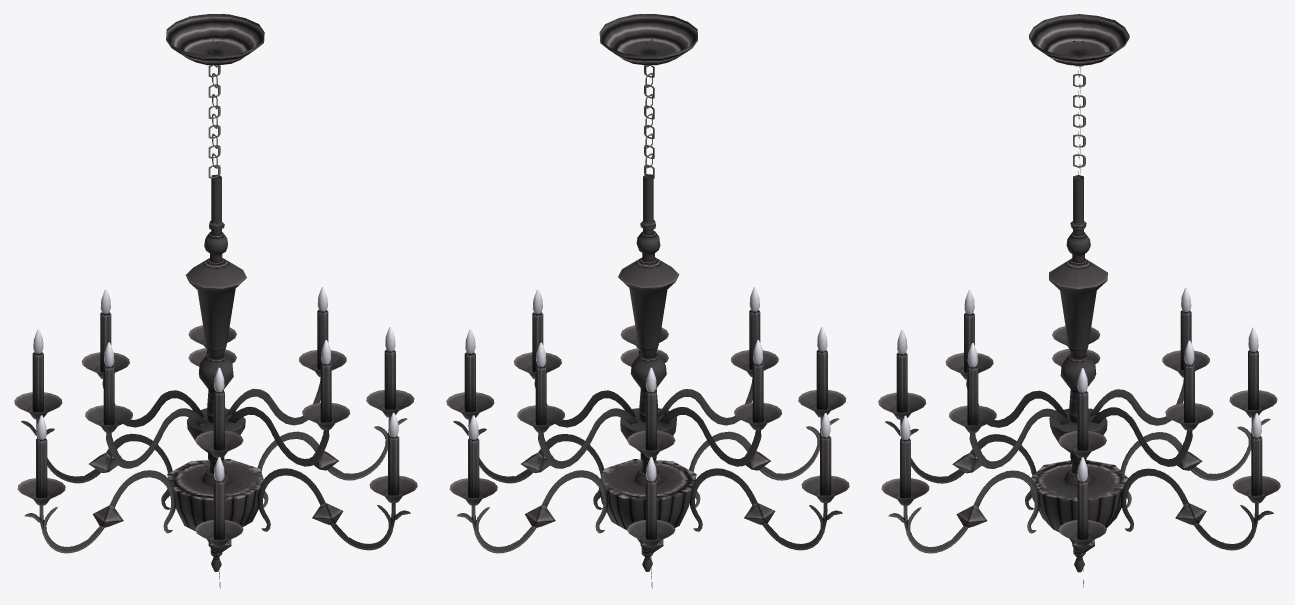
File: Chandelier03.FBX
3 views of the same model, side by side, from view 1: azimuth 30°, elevation 25°; view 2: azimuth 150°, elevation 25°; view 3: azimuth 270°, elevation 25° (orthographic).
Parts seen in each view (by area): view 1: Chandelier03; view 2: Chandelier03; view 3: Chandelier03.
Part boxes in pixels (box(x1,y1,x2,y2)): Chandelier03: box(14, 14, 417, 588); Chandelier03: box(446, 14, 849, 588); Chandelier03: box(878, 14, 1280, 587).
Size of the model in its own units: 164 by 213 by 145.
